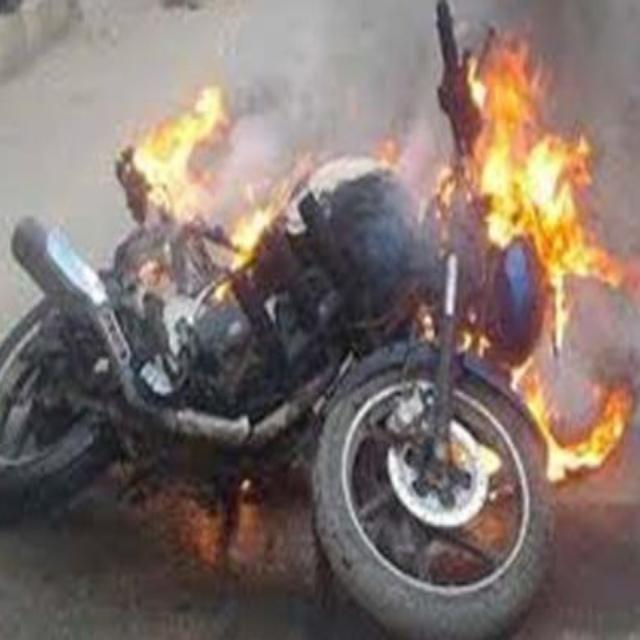fire: (478, 47, 619, 287), (132, 88, 228, 211), (564, 388, 632, 470), (522, 371, 565, 483), (230, 205, 272, 270)
